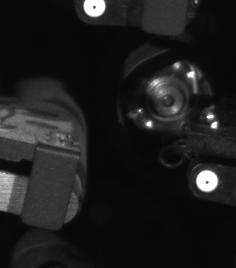fiber: (190, 164, 226, 199), (79, 1, 113, 23)
